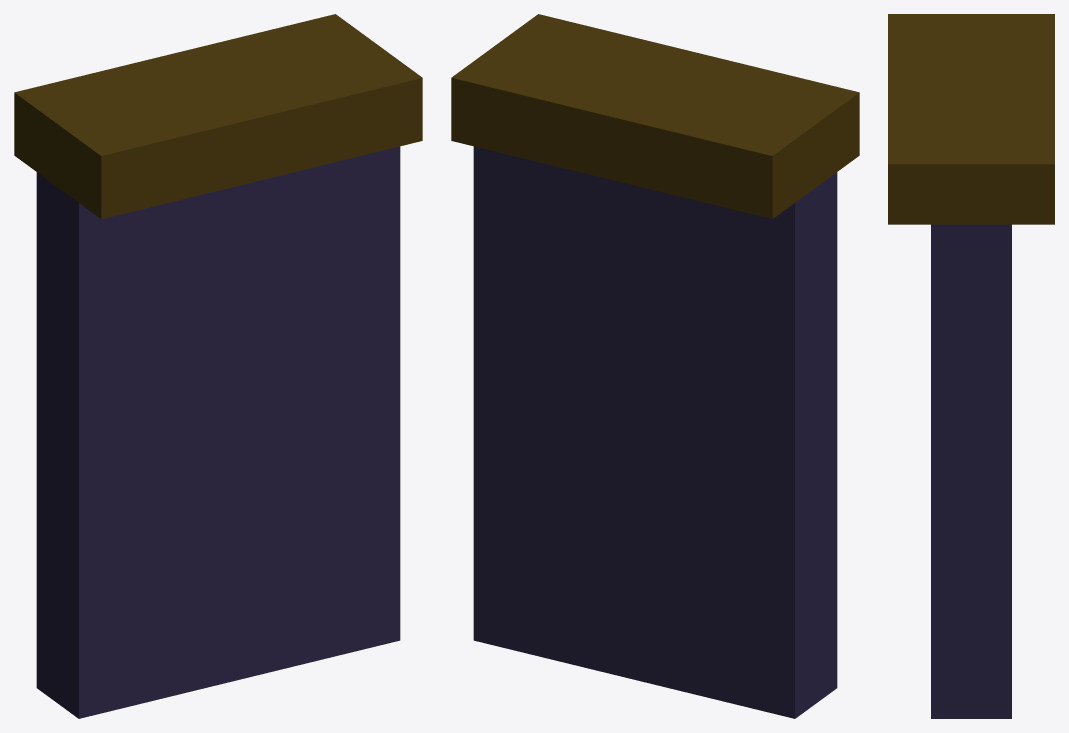
File: door.fbx
3 views of the same model, side by side, from view 1: azimuth 30°, elevation 25°; view 2: azimuth 150°, elevation 25°; view 3: azimuth 270°, elevation 25° (orthographic). The views are drawn at different scales.
Parts seen in each view (by area): view 1: door; view 2: door; view 3: door.
Part boxes in pixels (bbox=[...]): door: bbox=[14, 14, 422, 718]; door: bbox=[451, 14, 859, 718]; door: bbox=[888, 14, 1054, 718].
Size of the model in its own units: 708 by 1220 by 333.
